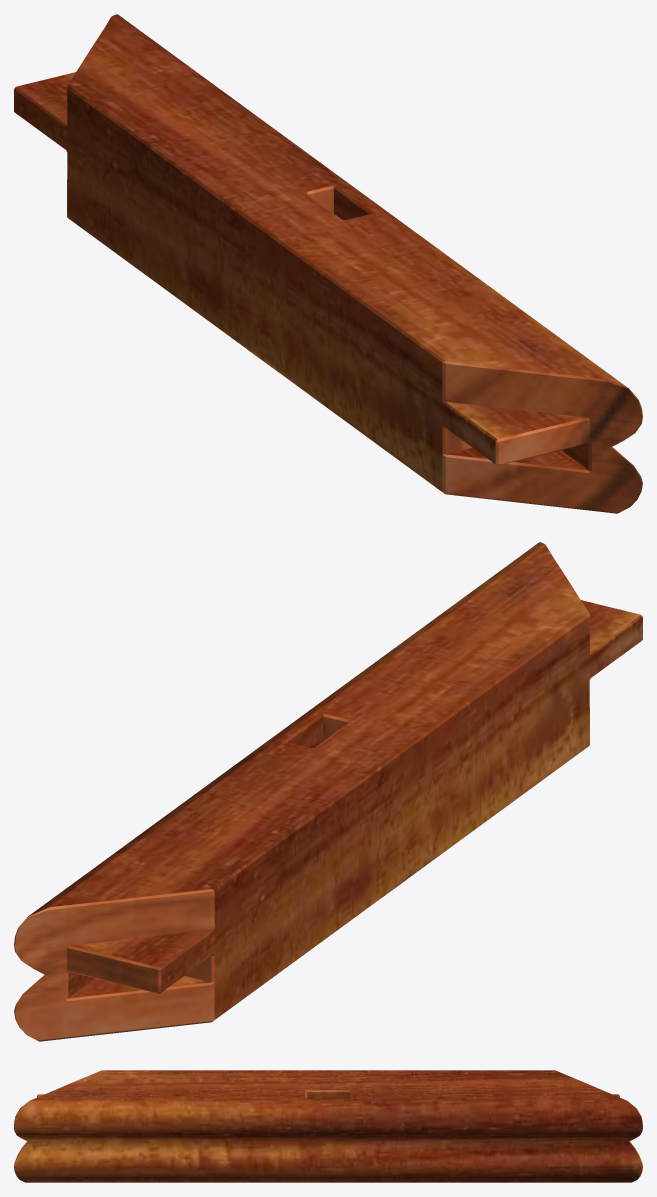
File: ytsy_J_cehengzhangi_004.FBX
3 renders of one model, top to bottom at view 1: azimuth 30°, elevation 25°; view 2: azimuth 150°, elevation 25°; view 3: azimuth 270°, elevation 25°, orthographic. The views are drawn at different scales.
Visible parts, largest first — view 1: ytsy_J_cehengzhangi_004; view 2: ytsy_J_cehengzhangi_004; view 3: ytsy_J_cehengzhangi_004.
Boxes of the visible parts, bbox=[...] form: ytsy_J_cehengzhangi_004: bbox=[14, 14, 642, 513]; ytsy_J_cehengzhangi_004: bbox=[14, 542, 642, 1041]; ytsy_J_cehengzhangi_004: bbox=[14, 1070, 642, 1182].
Bounding box in the file's own units: 4 × 4 × 28.41.
